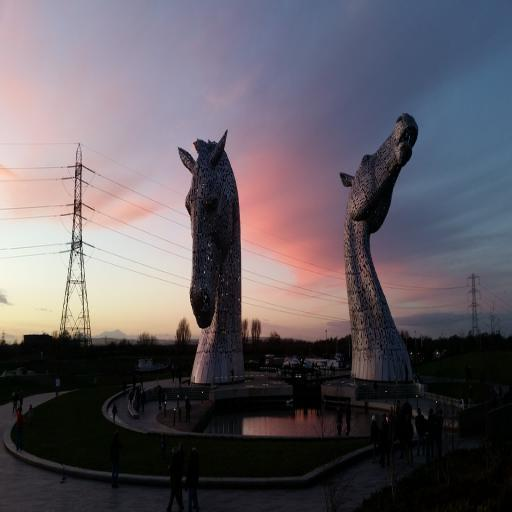horse: (176, 129, 246, 382)
